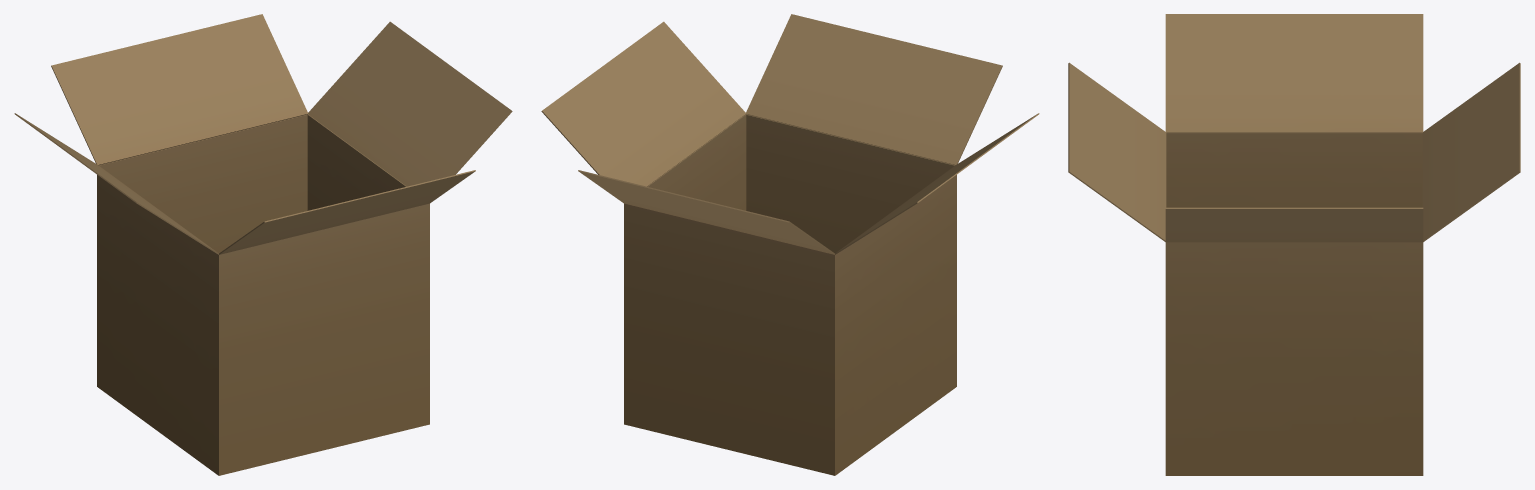
The model's file is EXTRACT.fbx.
3 renders of one model, left to right at view 1: azimuth 30°, elevation 25°; view 2: azimuth 150°, elevation 25°; view 3: azimuth 270°, elevation 25°, orthographic. The views are drawn at different scales.
Parts seen in each view (by area): view 1: Cube.110, Cube.117, Cube.116, Cube.115, Cube.114; view 2: Cube.110, Cube.115, Cube.116, Cube.117, Cube.114; view 3: Cube.110, Cube.114, Cube.115, Cube.117, Cube.116.
Boxes of the visible parts, x1,y1,x2,y2 form: Cube.110: [97, 114, 429, 475]; Cube.117: [51, 14, 307, 165]; Cube.116: [308, 21, 512, 186]; Cube.115: [219, 170, 475, 254]; Cube.114: [14, 113, 218, 254]; Cube.110: [624, 114, 956, 475]; Cube.115: [746, 14, 1002, 165]; Cube.116: [541, 21, 745, 186]; Cube.117: [578, 170, 834, 254]; Cube.114: [835, 113, 1039, 254]; Cube.110: [1165, 133, 1423, 475]; Cube.114: [1165, 14, 1423, 133]; Cube.115: [1068, 62, 1166, 241]; Cube.117: [1422, 62, 1520, 241]; Cube.116: [1165, 207, 1423, 242].
Bounding box in the file's own units: 177 × 174 × 132.
